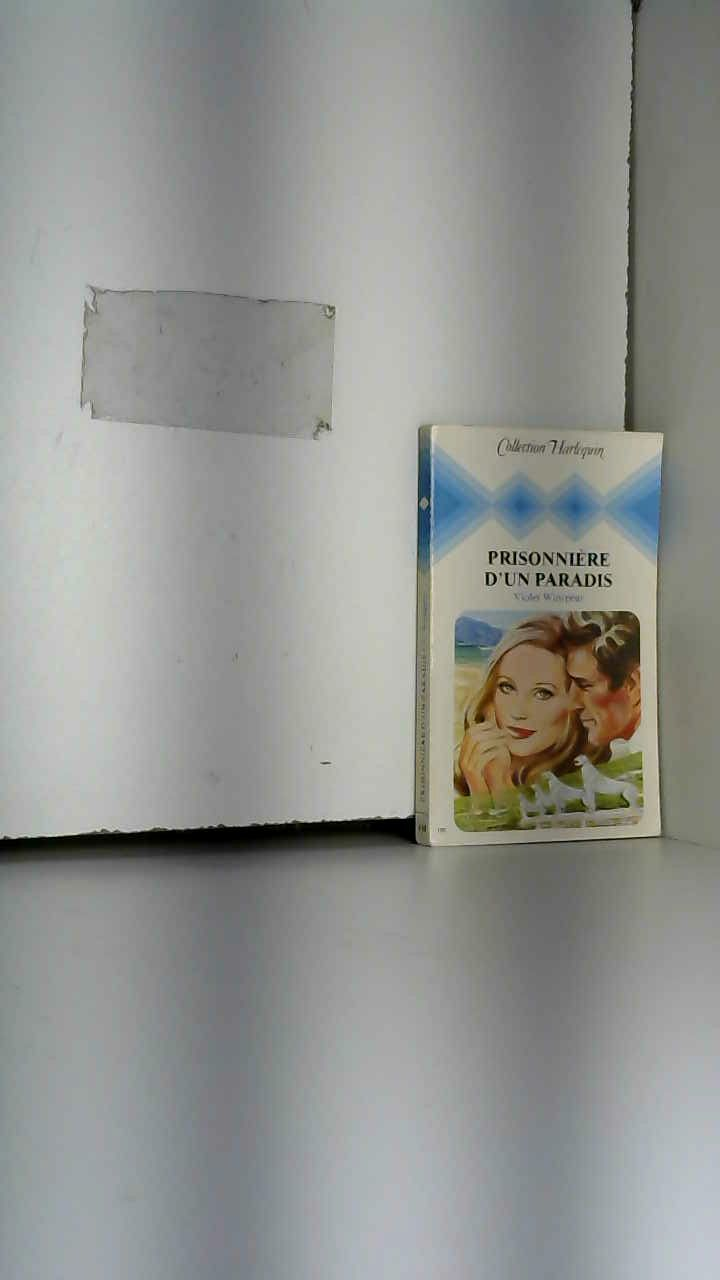book: (388, 387, 701, 885)
